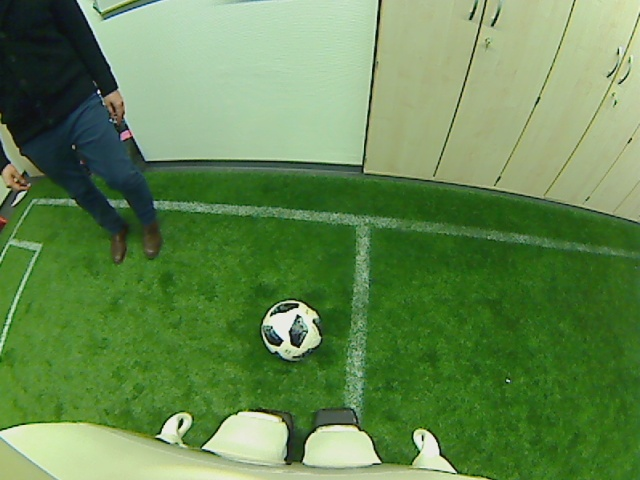ball: (259, 296, 323, 362)
